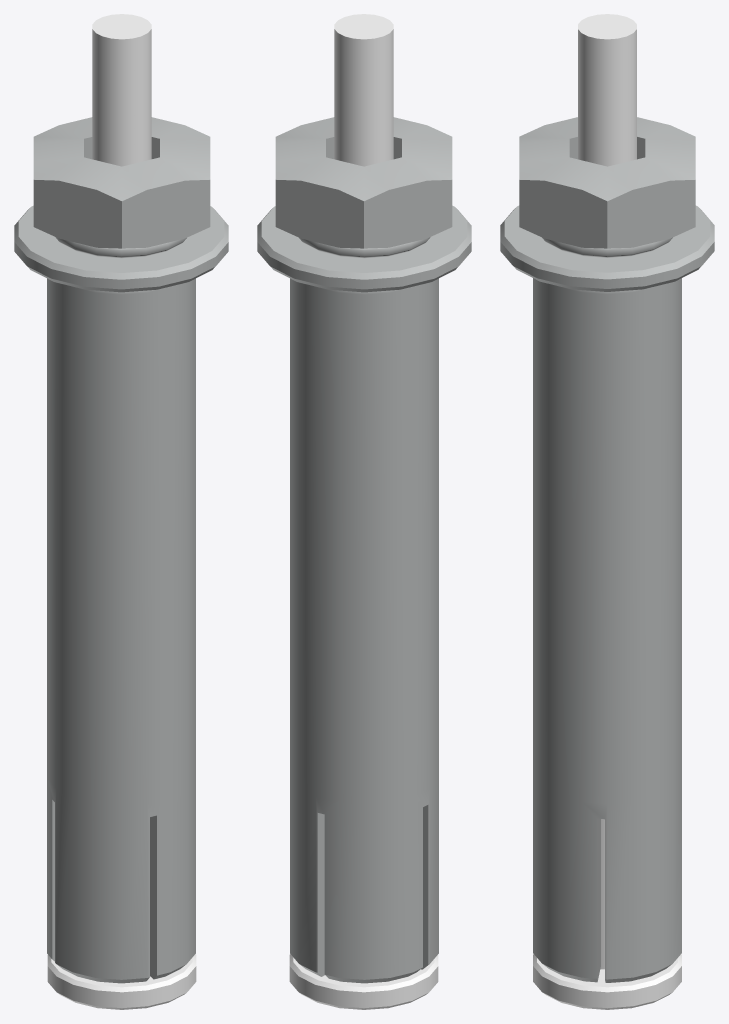
The model's file is PengZhangLuoSi.fbx.
3 views of the same model, side by side, from view 1: azimuth 30°, elevation 25°; view 2: azimuth 150°, elevation 25°; view 3: azimuth 270°, elevation 25° (orthographic).
Parts seen in each view (by area): view 1: pCylinder43, pCylinder44, pCylinder37, pCylinder40, pCylinder41; view 2: pCylinder43, pCylinder44, pCylinder37, pCylinder40, pCylinder41; view 3: pCylinder43, pCylinder44, pCylinder37, pCylinder40, pCylinder41.
Boxes of the visible parts, x1,y1,x2,y2 form: pCylinder43: (47,278,195,983); pCylinder44: (33,117,210,248); pCylinder37: (47,14,196,1009); pCylinder40: (14,205,228,292); pCylinder41: (55,237,186,258); pCylinder43: (290,278,438,983); pCylinder44: (275,117,452,248); pCylinder37: (289,14,438,1009); pCylinder40: (257,205,471,292); pCylinder41: (299,237,430,258); pCylinder43: (533,278,681,982); pCylinder44: (519,117,695,248); pCylinder37: (533,14,681,1009); pCylinder40: (500,205,714,291); pCylinder41: (542,237,672,257).
Size of the model in its own units: 1.15 by 5.57 by 1.14.
1 material, 1 textured.
